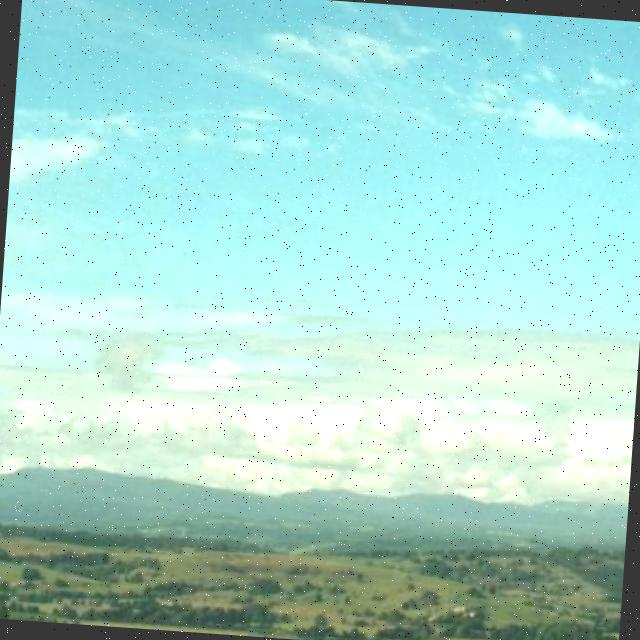St: (1, 48, 640, 501)
